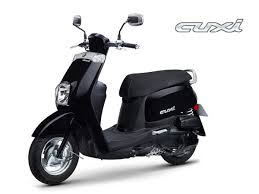motorcycle: (24, 12, 211, 186)
